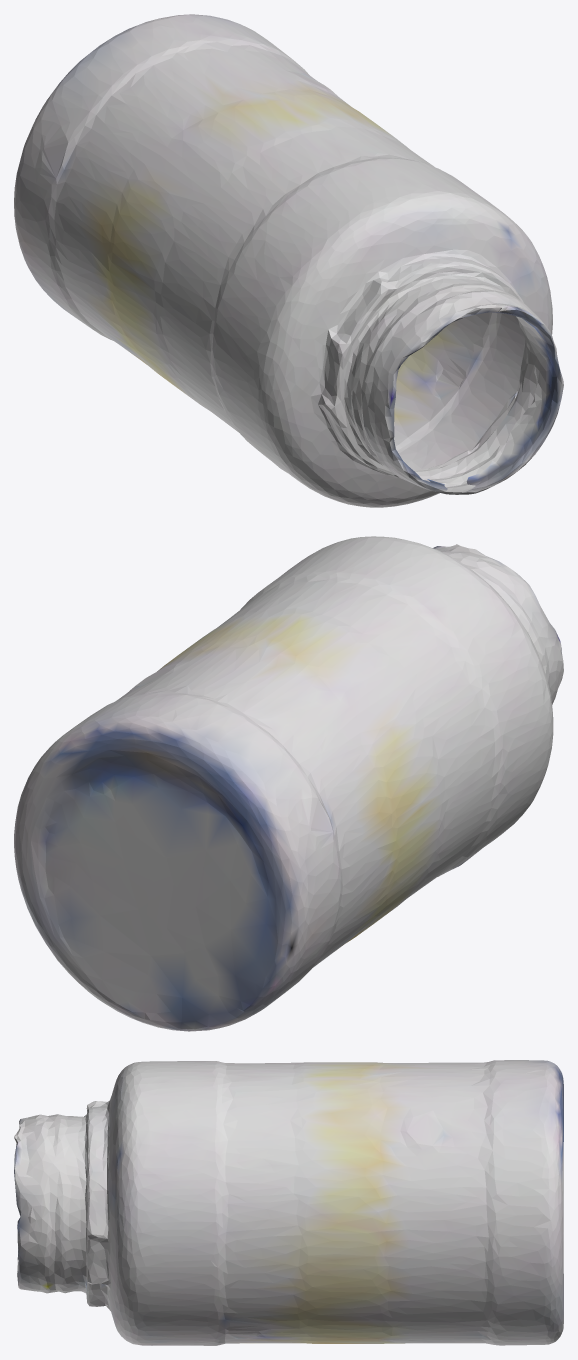
The model's file is scan.obj.
3 views of the same model, one above another, from view 1: azimuth 30°, elevation 25°; view 2: azimuth 150°, elevation 25°; view 3: azimuth 270°, elevation 25° (orthographic). The views are drawn at different scales.
Visible parts, largest first — view 1: scan.ply; view 2: scan.ply; view 3: scan.ply.
Part boxes in pixels (x1,y1,x2,y2): scan.ply: [14, 14, 563, 507]; scan.ply: [14, 536, 563, 1031]; scan.ply: [14, 1060, 563, 1345].
Size of the model in its own units: 0.0622 by 0.0623 by 0.12.
